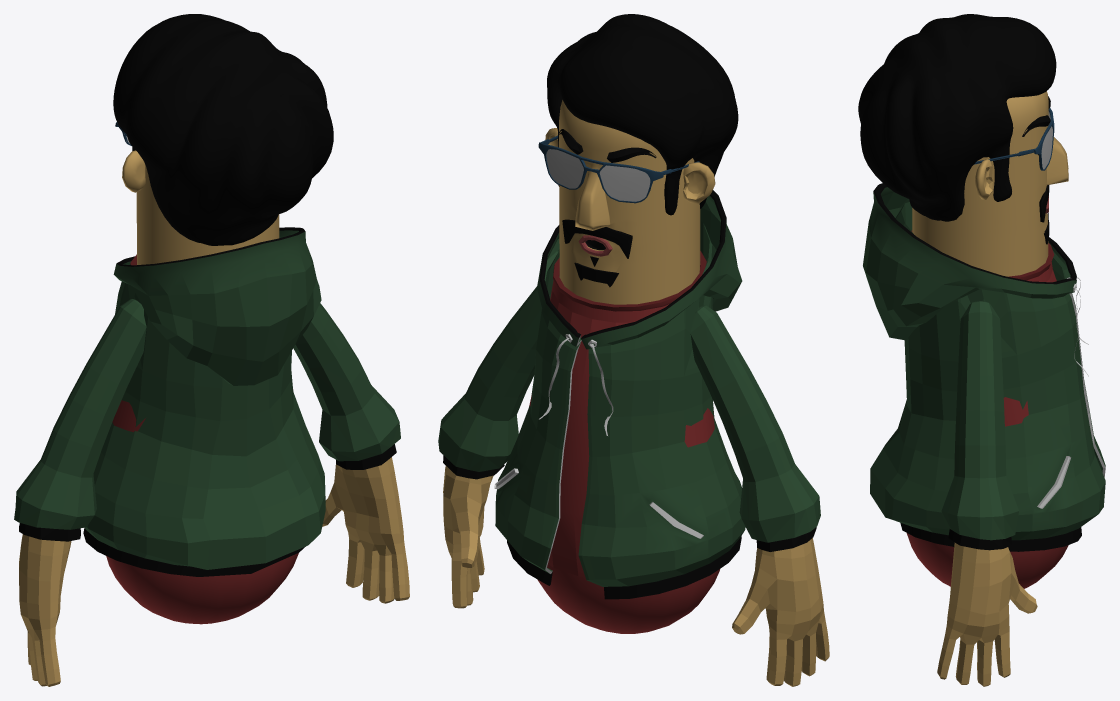
3 views of the same model, side by side, from view 1: azimuth 30°, elevation 25°; view 2: azimuth 150°, elevation 25°; view 3: azimuth 270°, elevation 25° (orthographic). The views are drawn at different scales.
Visible parts, largest first — view 1: Ed_houdy, Ed_hair, Ed_houdy_arm_R, Ed_houdy_arm_L, Ed_arm_L, Ed_body, Ed_arm_R, Ed_head, Ed_ear_R; view 2: Ed_houdy, Ed_hair, Ed_head, Ed_body, Ed_houdy_arm_R, Ed_houdy_arm_L, Ed_arm_R, Ed_arm_L, Ed_glasses_transp, Ed_glasses, Ed_ear_R, Ed_mustache_01; view 3: Ed_houdy, Ed_hair, Ed_houdy_arm_L, Ed_head, Ed_arm_L, Ed_body, Ed_ear_L, Ed_glasses.
Boxes of the visible parts, x1=… form: Ed_houdy: x1=83, y1=227, x2=325, y2=576; Ed_hair: x1=113, y1=14, x2=333, y2=245; Ed_houdy_arm_R: x1=14, y1=299, x2=146, y2=541; Ed_houdy_arm_L: x1=293, y1=303, x2=400, y2=469; Ed_arm_L: x1=322, y1=457, x2=409, y2=603; Ed_body: x1=106, y1=254, x2=298, y2=624; Ed_arm_R: x1=19, y1=534, x2=71, y2=686; Ed_head: x1=136, y1=165, x2=279, y2=264; Ed_ear_R: x1=122, y1=150, x2=145, y2=192; Ed_houdy: x1=494, y1=190, x2=745, y2=599; Ed_hair: x1=547, y1=14, x2=738, y2=215; Ed_head: x1=559, y1=100, x2=700, y2=304; Ed_body: x1=529, y1=251, x2=719, y2=633; Ed_houdy_arm_R: x1=690, y1=305, x2=820, y2=551; Ed_houdy_arm_L: x1=438, y1=276, x2=559, y2=479; Ed_arm_R: x1=732, y1=538, x2=829, y2=686; Ed_arm_L: x1=443, y1=466, x2=493, y2=608; Ed_glasses_transp: x1=546, y1=149, x2=652, y2=201; Ed_glasses: x1=538, y1=135, x2=699, y2=203; Ed_ear_R: x1=683, y1=162, x2=715, y2=203; Ed_mustache_01: x1=562, y1=219, x2=632, y2=258; Ed_houdy: x1=863, y1=183, x2=1105, y2=551; Ed_hair: x1=858, y1=14, x2=1056, y2=221; Ed_houdy_arm_L: x1=941, y1=301, x2=1018, y2=550; Ed_head: x1=912, y1=91, x2=1068, y2=276; Ed_arm_L: x1=937, y1=542, x2=1037, y2=686; Ed_body: x1=906, y1=230, x2=1068, y2=588; Ed_ear_L: x1=975, y1=159, x2=992, y2=199; Ed_glasses: x1=974, y1=108, x2=1054, y2=170.
Bounding box in the file's own units: 7.52 × 11.72 × 4.48.
